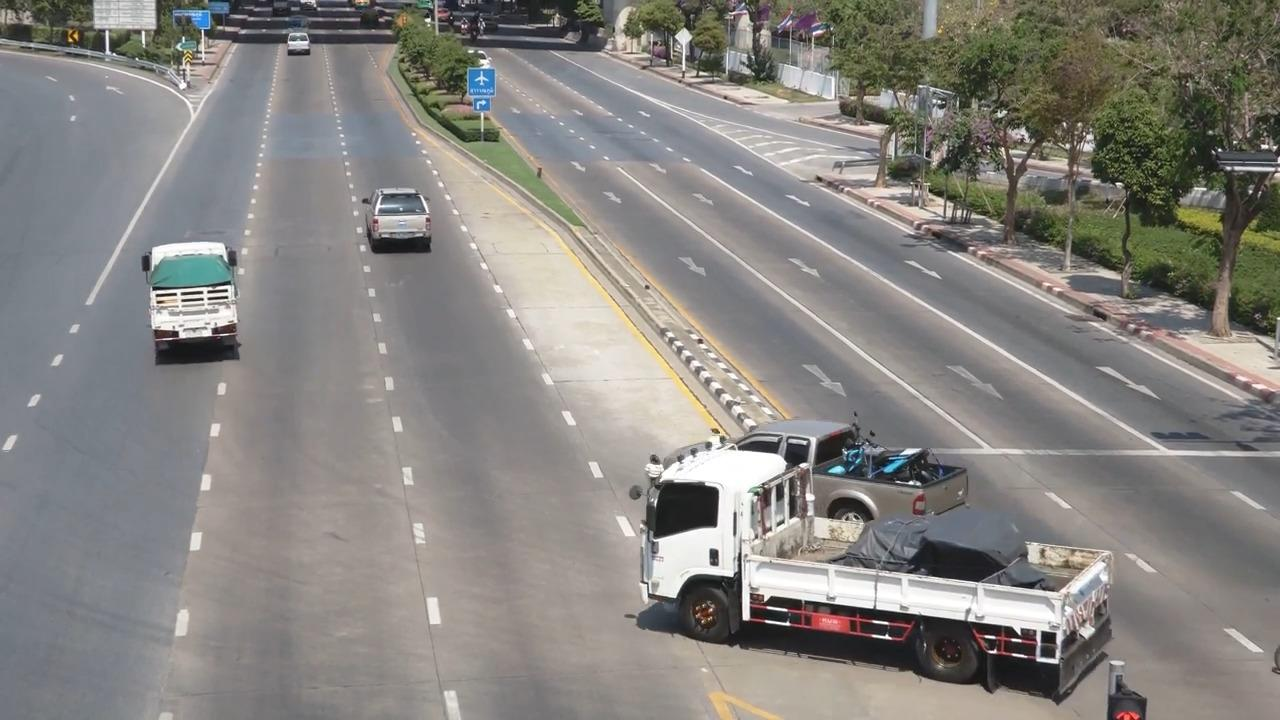CAR: (122, 224, 260, 374), (647, 404, 951, 469), (350, 178, 442, 268), (277, 30, 323, 65)
HGV_BUS: (627, 445, 1131, 701)
